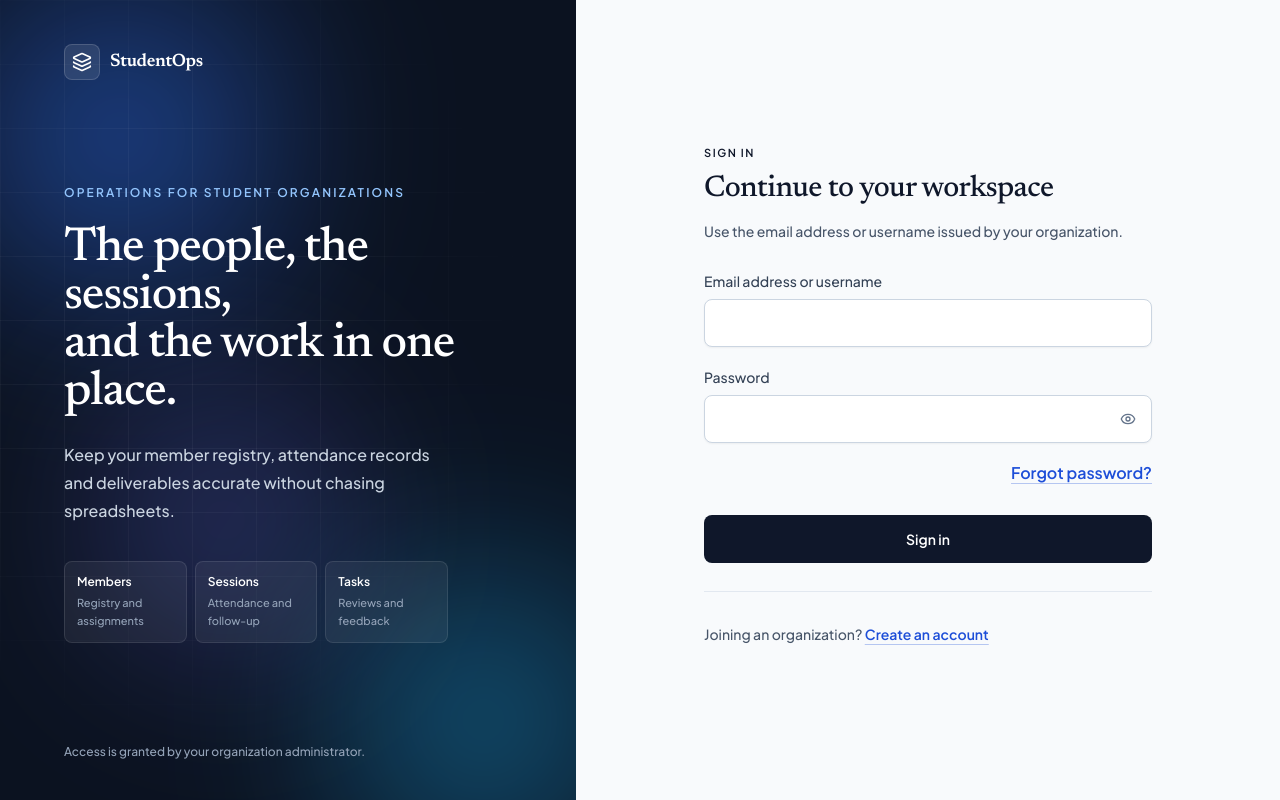
Scenario: Login › accepts an email address or a username and does not contact the API when empty
Step 1. Click the button "Sign in" → x=928, y=538, box x1=704 y1=514 x2=1152 y2=562
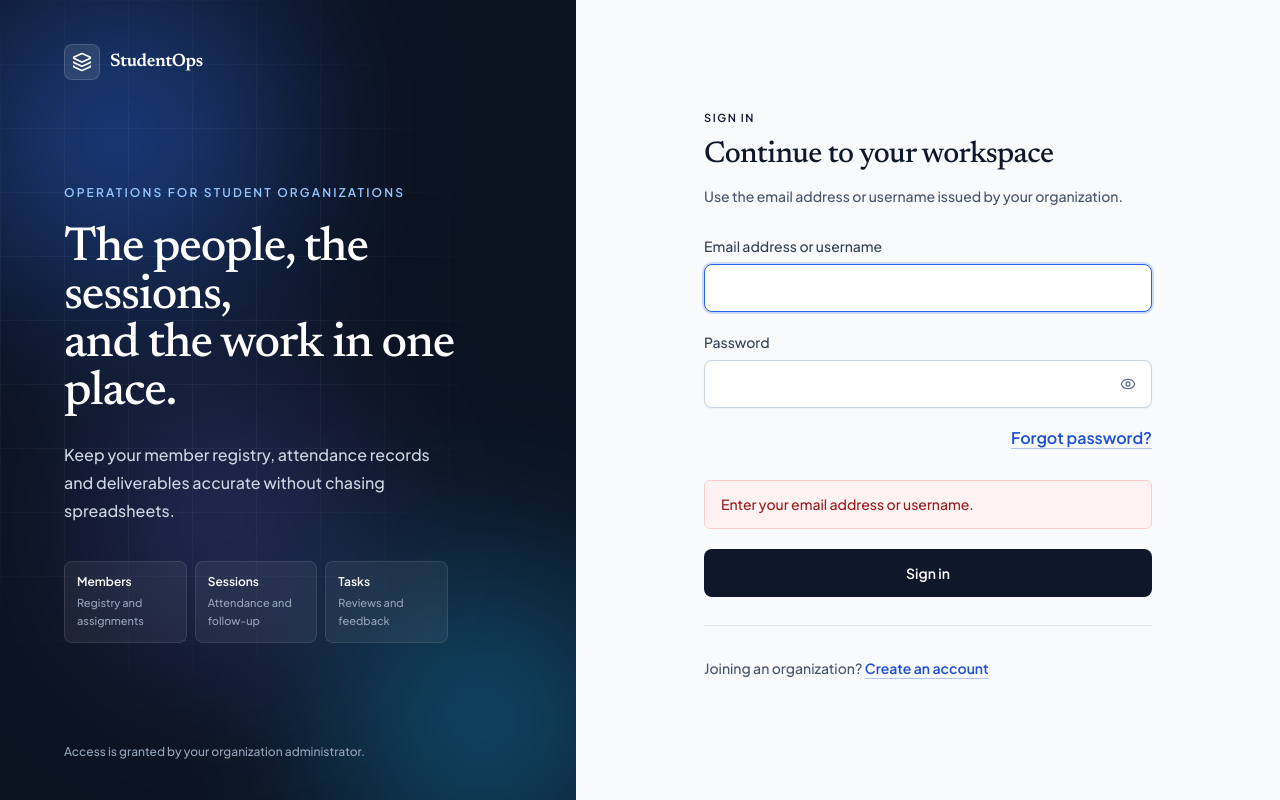
Expected: the message reads "Enter your email address or username.", x1=721 y1=495 x2=974 y2=513
